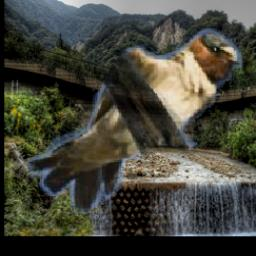Swallow: (27, 29, 242, 215)
